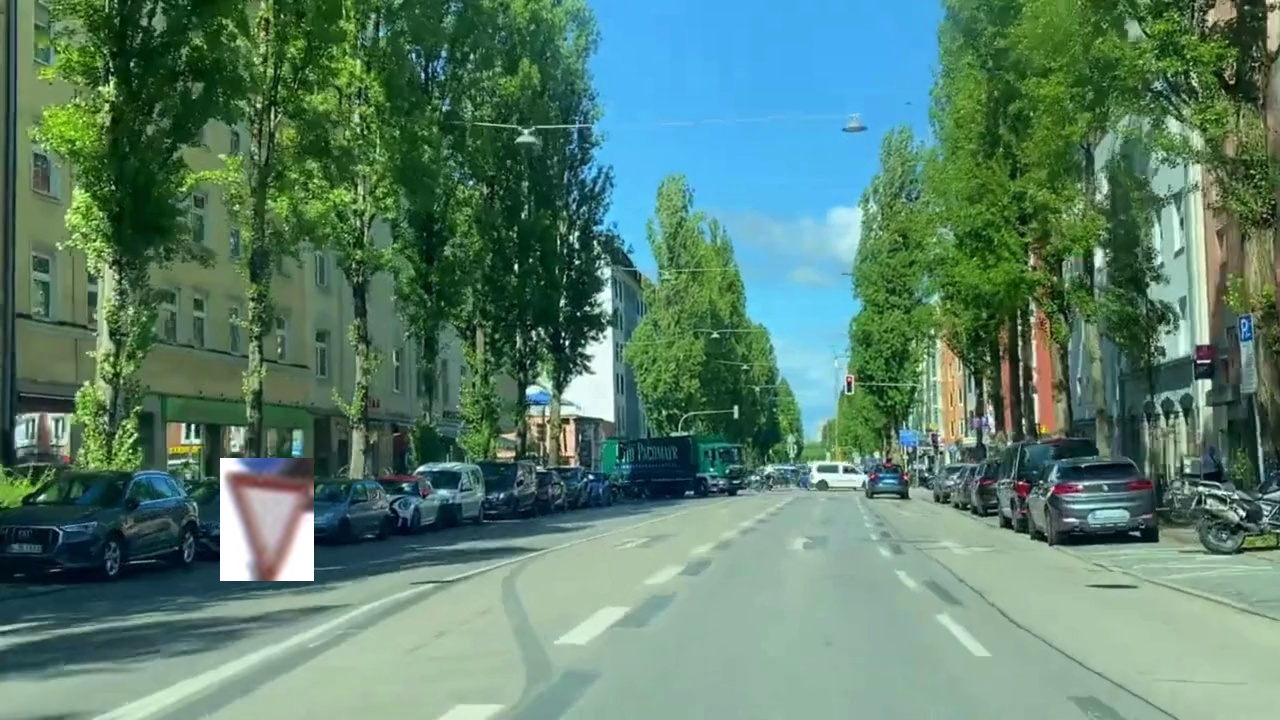Yield: (220, 458, 314, 581)
